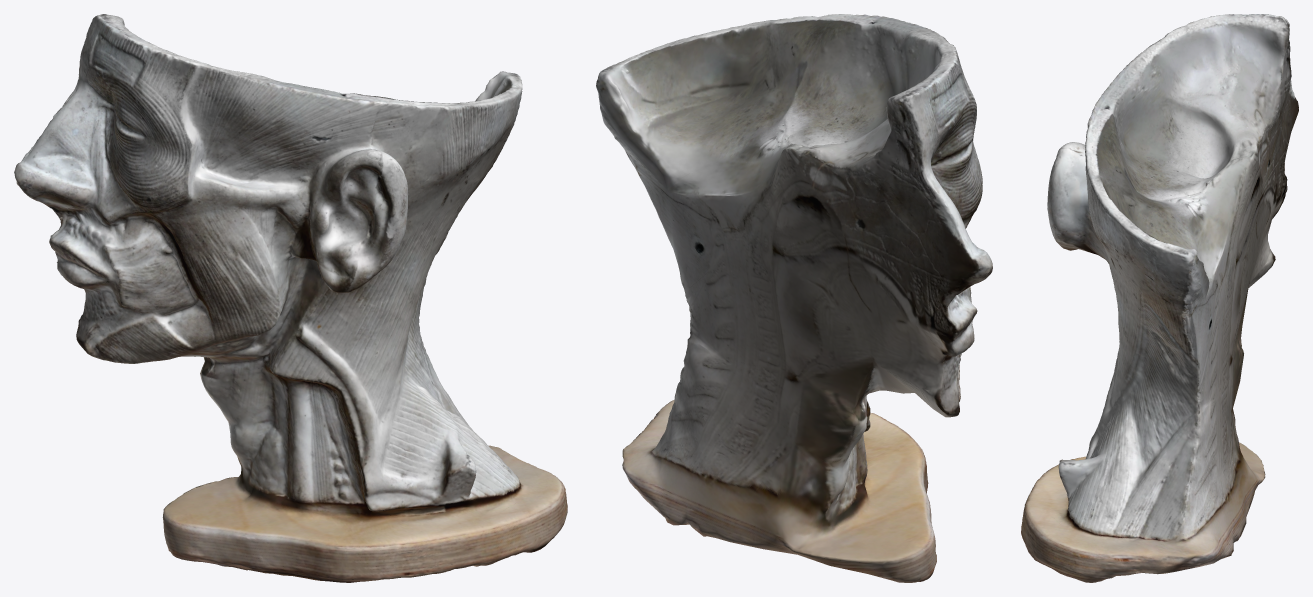
3 renders of one model, left to right at view 1: azimuth 30°, elevation 25°; view 2: azimuth 150°, elevation 25°; view 3: azimuth 270°, elevation 25°, orthographic. The views are drawn at different scales.
Parts seen in each view (by area): view 1: model; view 2: model; view 3: model.
Part boxes in pixels (x1=…): model: x1=14, y1=14, x2=567, y2=582; model: x1=596, y1=14, x2=992, y2=582; model: x1=1021, y1=14, x2=1298, y2=582.
Bounding box in the file's own units: 0.4326 × 0.4851 × 0.2781.
Materials: 1 (1 with a texture image).
